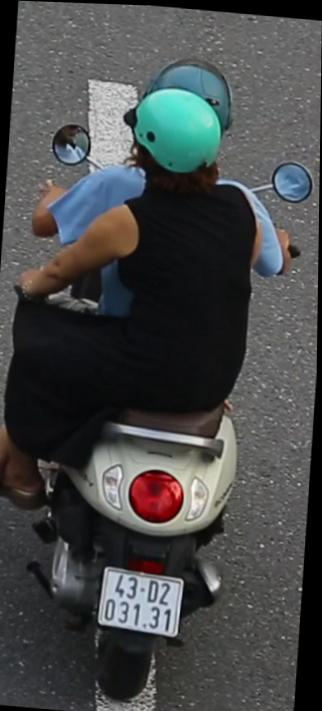LP: (98, 561, 192, 642)
helmet: (110, 81, 235, 213), (152, 54, 238, 117)
